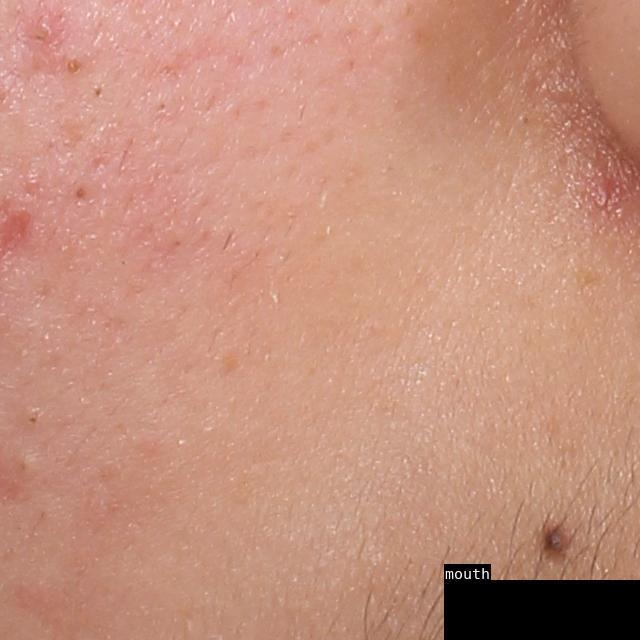comedo: (12, 446, 42, 478), (19, 405, 47, 432), (63, 54, 87, 76), (70, 181, 92, 205)
nevus: (538, 518, 577, 563)
papule: (34, 11, 64, 44)
